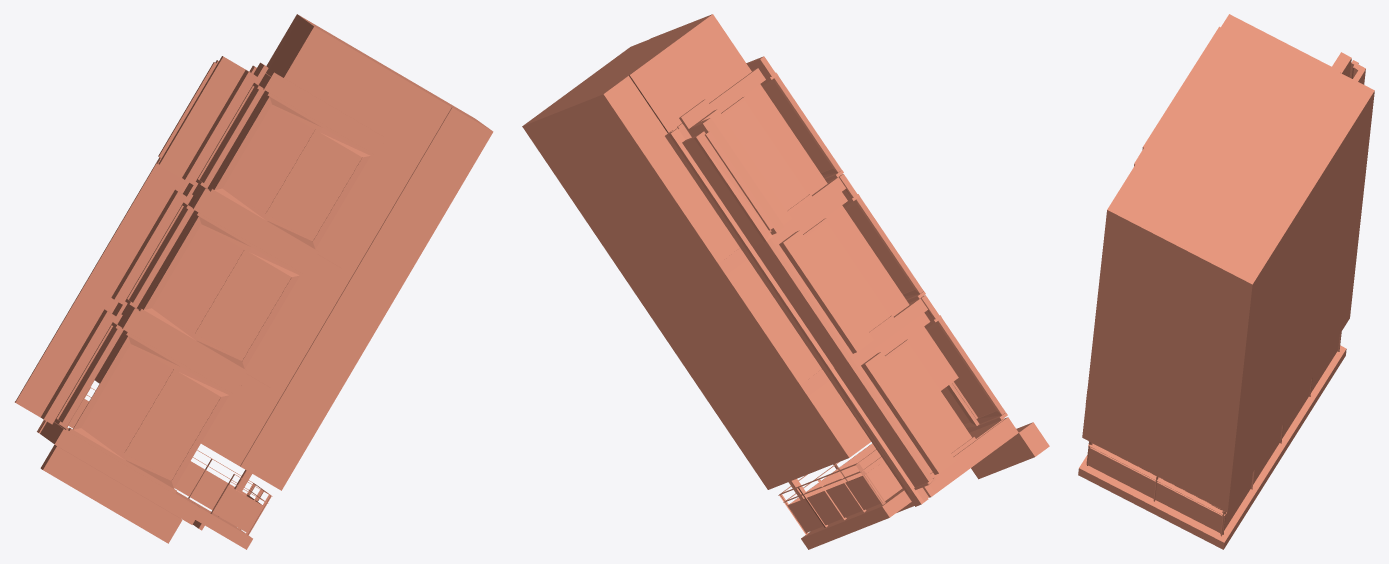
The picture shows the model from 3 angles, left to right: view 1: azimuth 30°, elevation 25°; view 2: azimuth 150°, elevation 25°; view 3: azimuth 270°, elevation 25°; orthographic projection. The views are drawn at different scales.
Visible parts, largest first — view 1: mesh; view 2: mesh; view 3: mesh.
Boxes of the visible parts, box(x1,y1,x2,y2) form: mesh: box(14, 14, 493, 549); mesh: box(522, 14, 1049, 549); mesh: box(1078, 14, 1374, 549).
Bounding box in the file's own units: 11.61 × 11.6 × 5.31.
